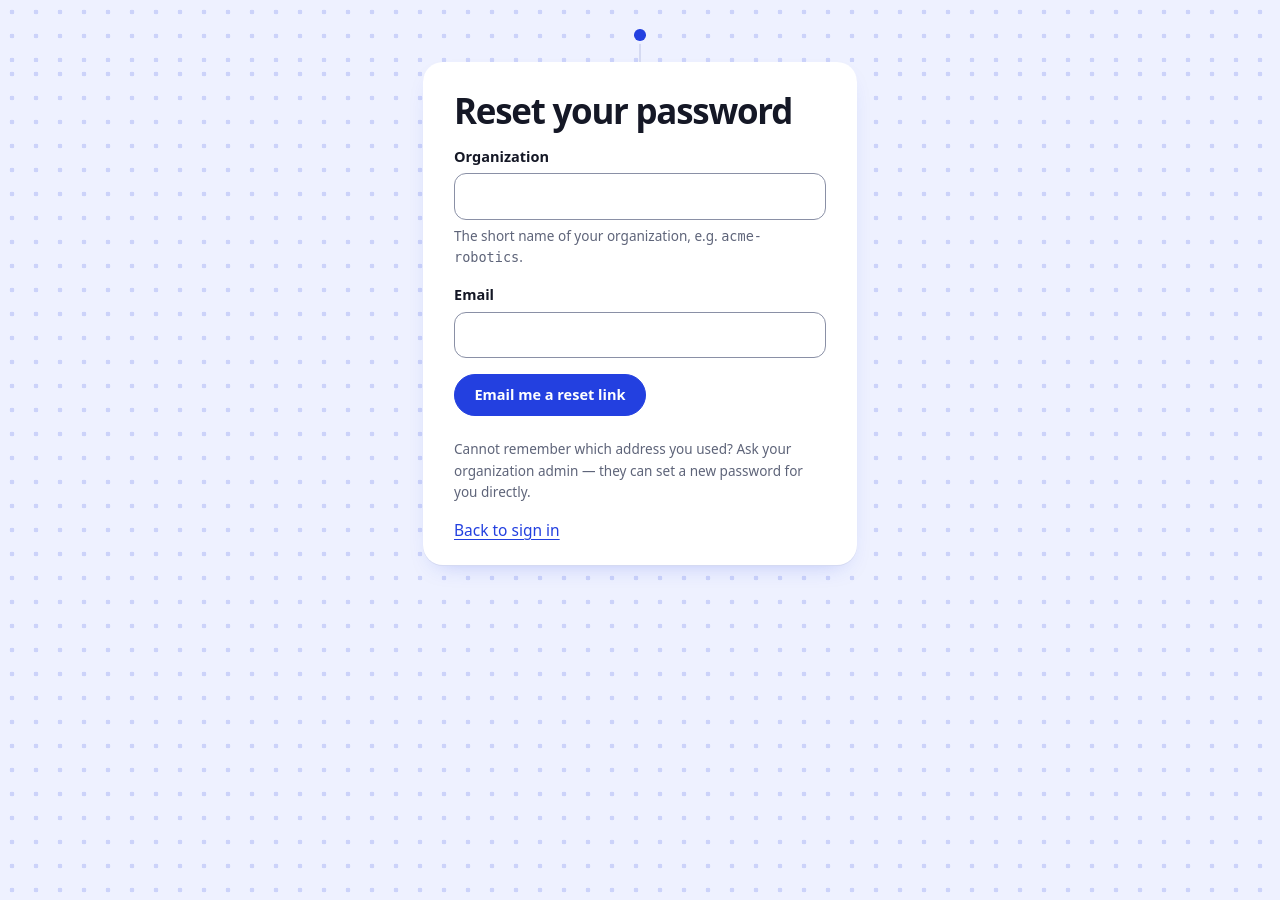
ForgotPasswordPage › shows an error when the API cannot be reached, and keeps the form
Type "acme-robotics" into the field labelled "Organization".
click(640, 197); type("acme-robotics")  # box [454,173,826,220]
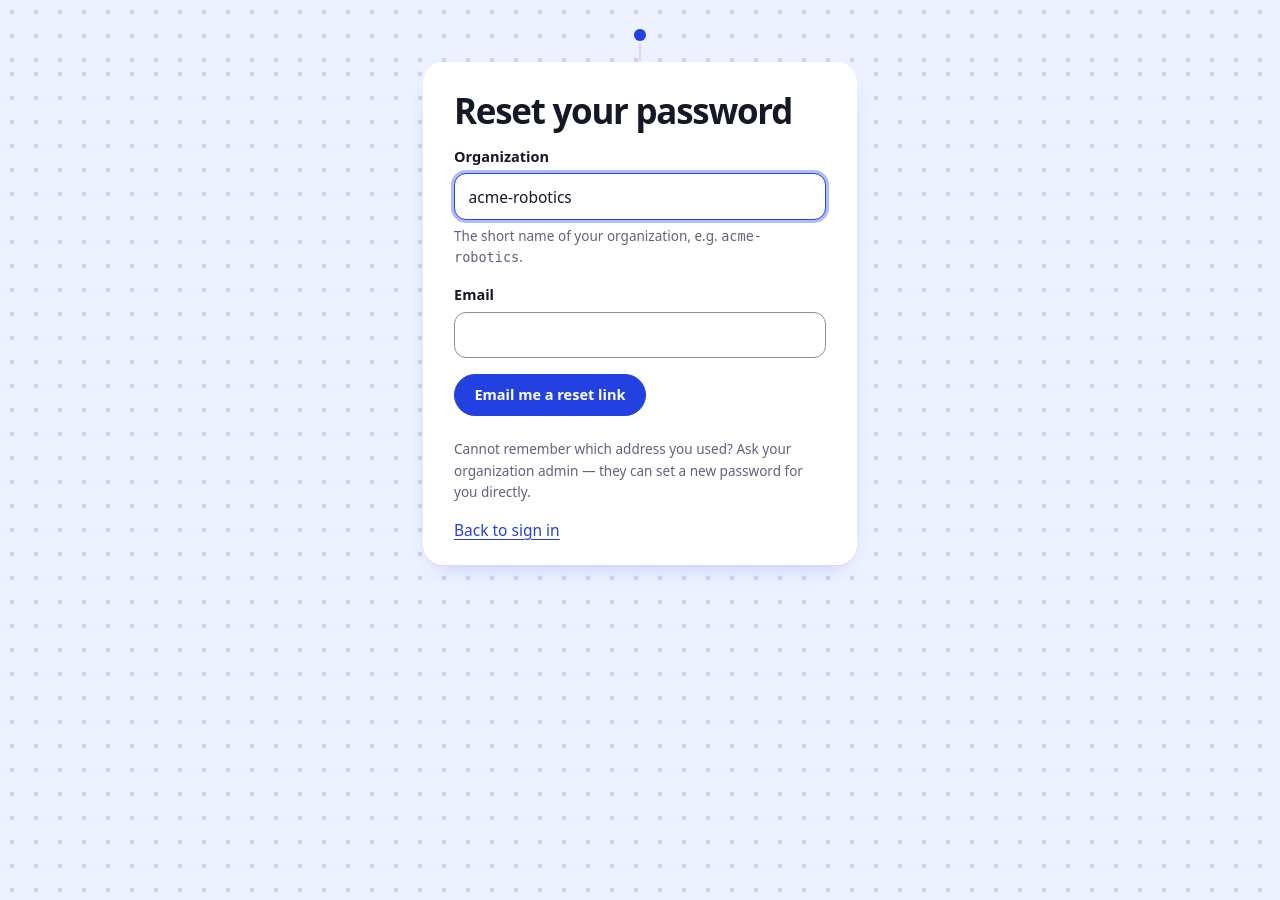
Type "ada@acme.test" into the field labelled "Email".
click(640, 335); type("ada@acme.test")  # box [454,312,826,358]
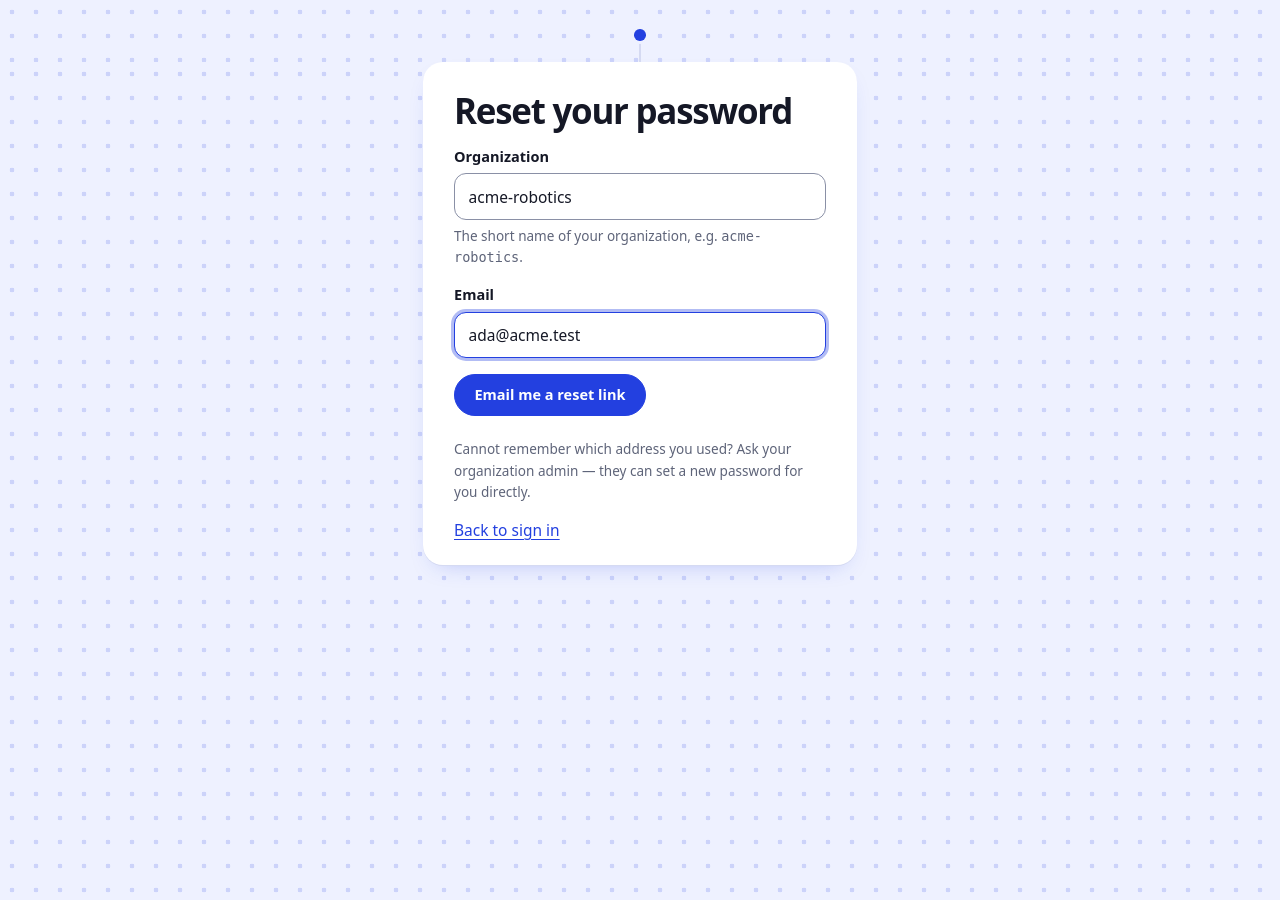
Click the button "Email me a reset link".
click(550, 395)  # box [454,374,646,416]
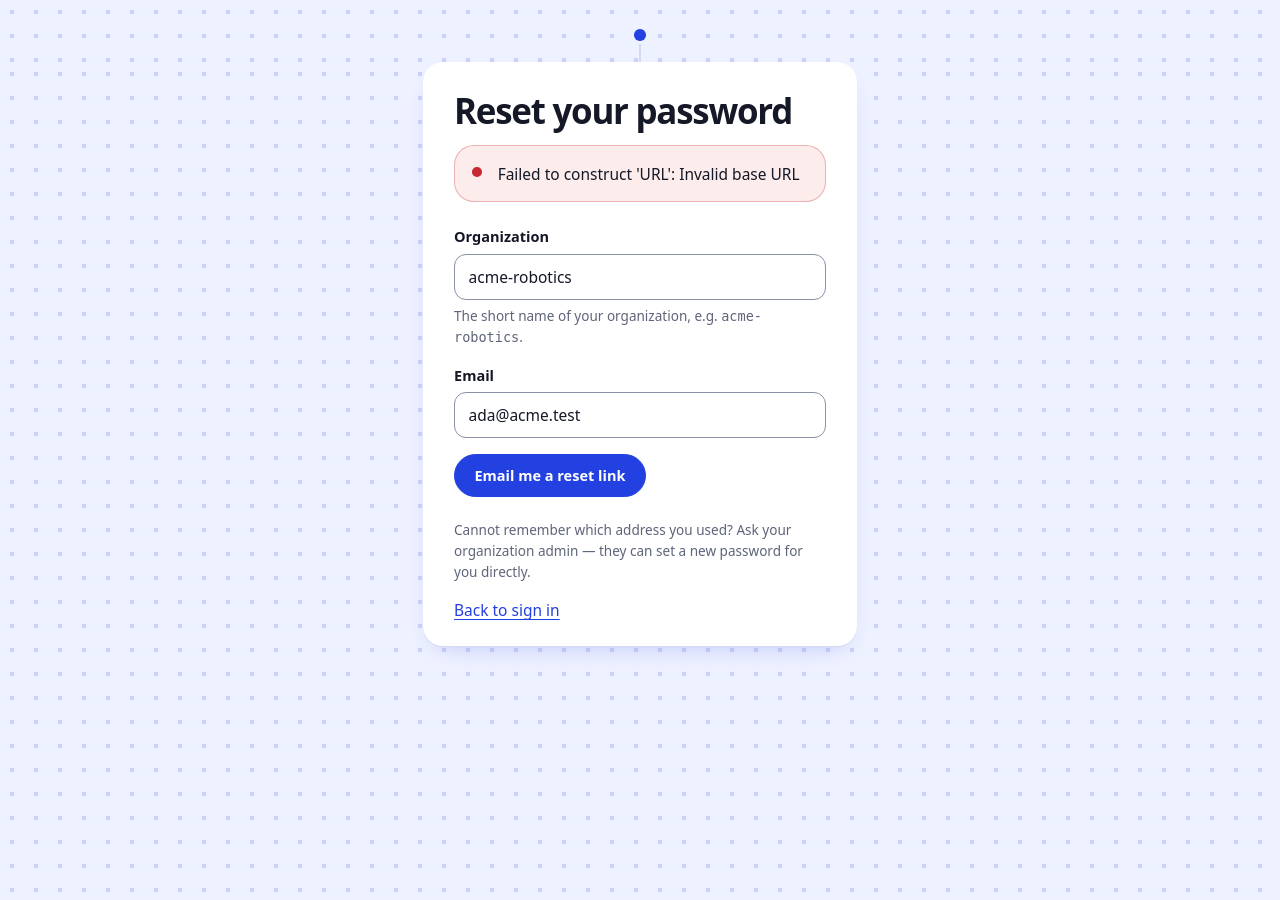
Check: the button "Email me a reset link" is enabled, box [454,454,646,496]
Check: the message "Failed to construct 'URL': Invalid base URL" is shown, box [454,145,826,202]
